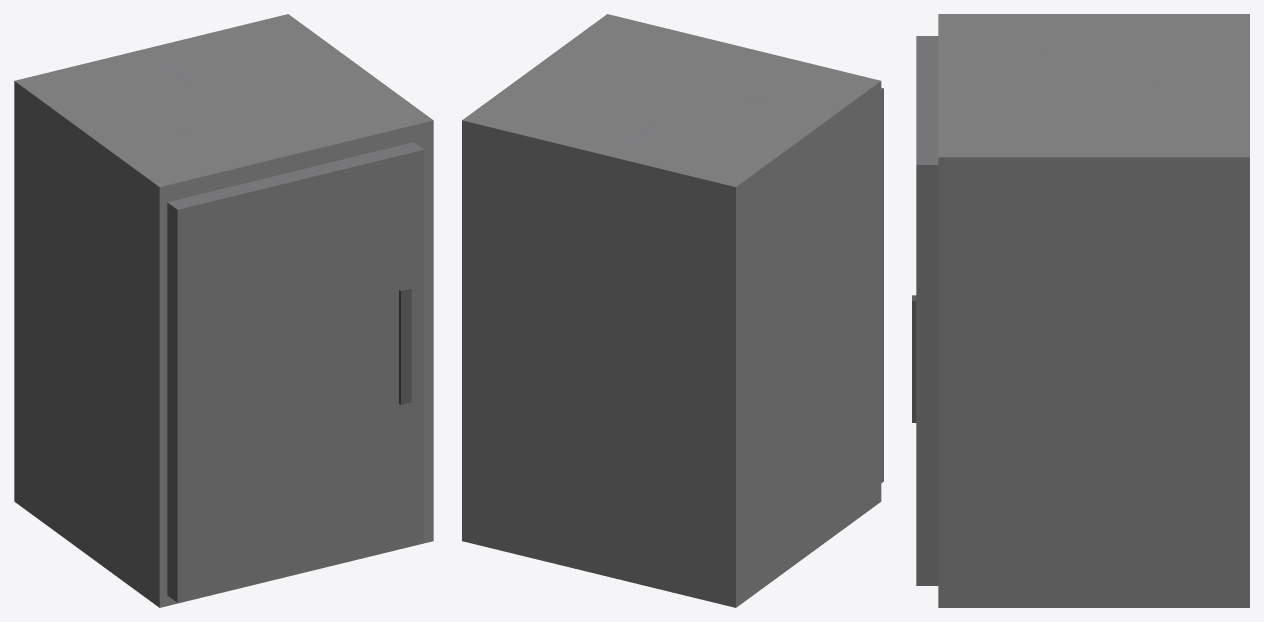
The model's file is FridgeFinal.fbx.
3 views of the same model, side by side, from view 1: azimuth 30°, elevation 25°; view 2: azimuth 150°, elevation 25°; view 3: azimuth 270°, elevation 25° (orthographic). The views are drawn at different scales.
Visible parts, largest first — view 1: Fridge Body.001, Cube.004; view 2: Fridge Body.001, Cube.004; view 3: Fridge Body.001, Cube.004.
Part boxes in pixels (x1,y1,x2,y2): Fridge Body.001: (14, 14, 433, 607); Cube.004: (167, 142, 423, 602); Fridge Body.001: (462, 14, 881, 607); Cube.004: (881, 88, 883, 482); Fridge Body.001: (938, 14, 1249, 607); Cube.004: (912, 36, 938, 585).
Size of the model in its own units: 515 by 755 by 513.
